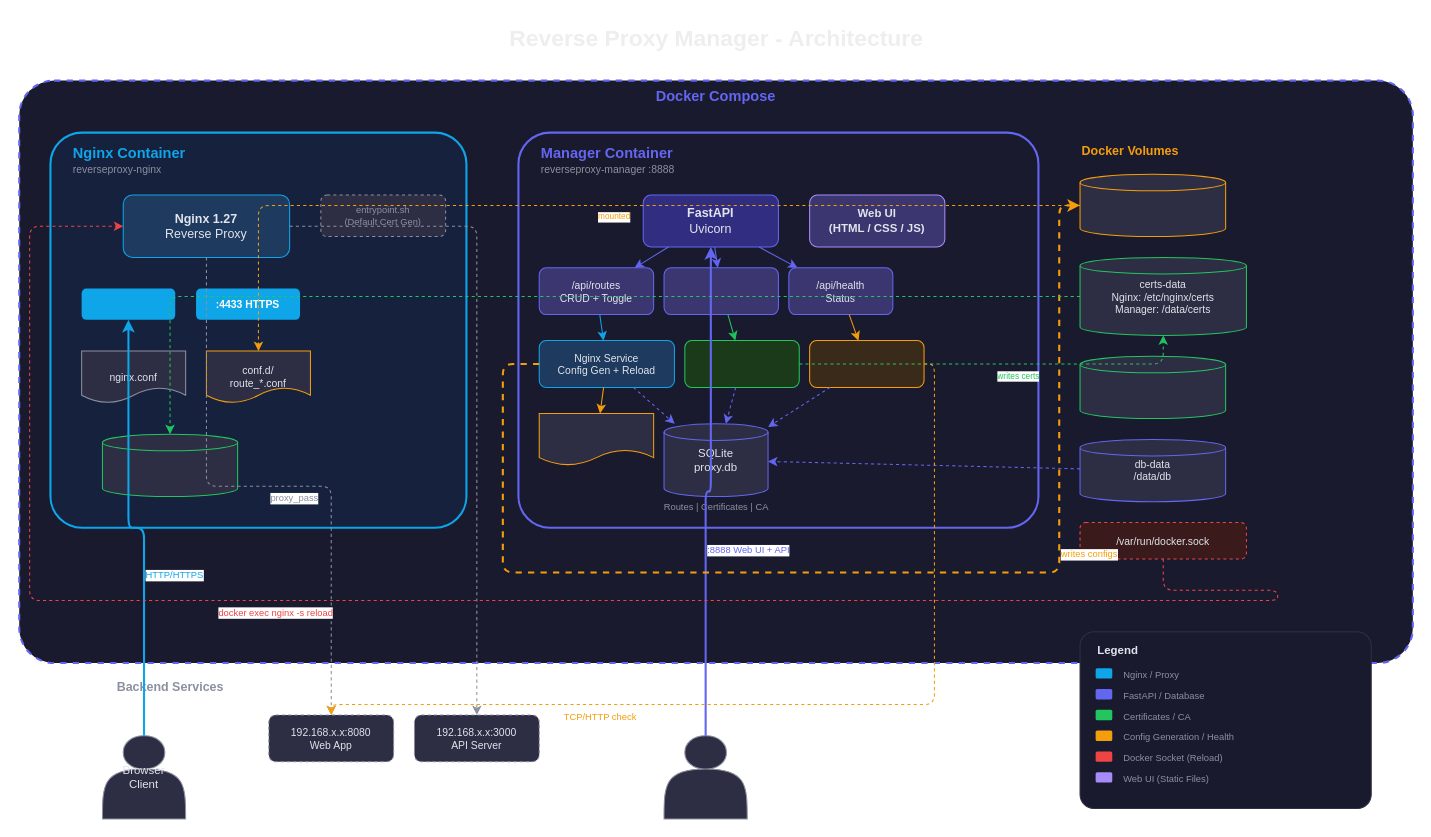
Some shapes in this 1431 by 837 pixel diagram are drawn without their labels. Each missing label, with the box of its shape:
/api/certificates + /api/ca: (663, 267, 778, 315)
/etc/nginx/certs SSL Certificates: (101, 433, 238, 497)
:83 HTTP: (81, 288, 175, 319)
Admin Browser: (663, 735, 747, 819)
CA Service Cert Issuance: (684, 340, 799, 387)
ca-data /data/ca: (1079, 355, 1226, 419)
Health Check Periodic (30s): (809, 340, 924, 387)
Jinja2 nginx_route.conf.j2: (538, 412, 654, 465)
nginx-config /etc/nginx/conf.d: (1079, 173, 1226, 237)
